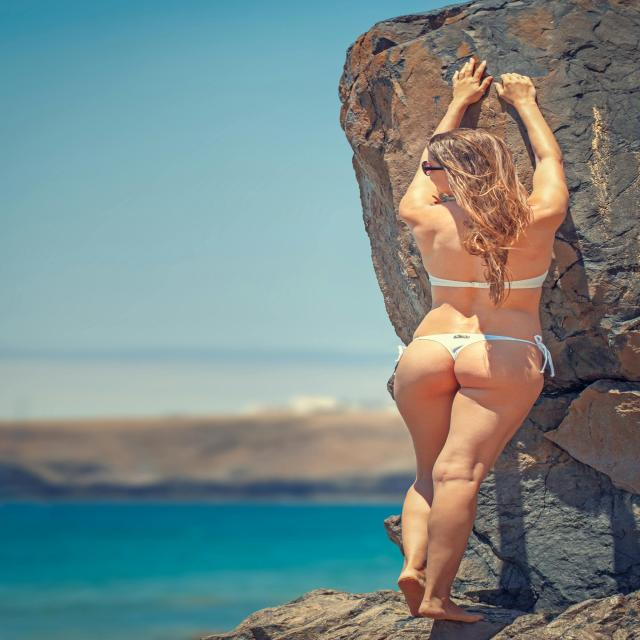stand: (366, 96, 570, 640)
